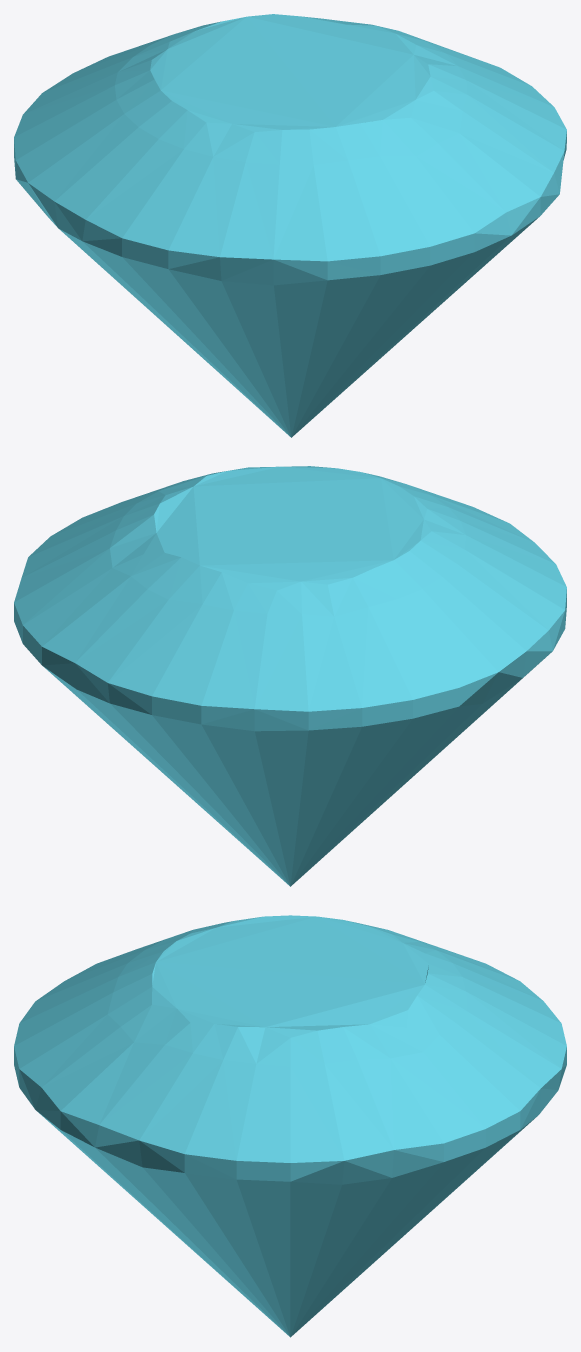
Rendered from dimamante.fbx.
The picture shows the model from 3 angles, top to bottom: view 1: azimuth 30°, elevation 25°; view 2: azimuth 150°, elevation 25°; view 3: azimuth 270°, elevation 25°; orthographic projection.
Visible parts, largest first — view 1: Sphere; view 2: Sphere; view 3: Sphere.
Part boxes in pixels (left/top/right/bottom): Sphere: left=14, top=14, right=566, bottom=437; Sphere: left=14, top=466, right=566, bottom=886; Sphere: left=14, top=915, right=566, bottom=1337.
Size of the model in its own units: 198 by 145 by 200.
